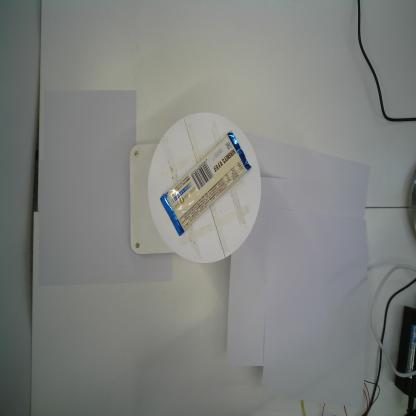Chocolate: (159, 129, 252, 238)
